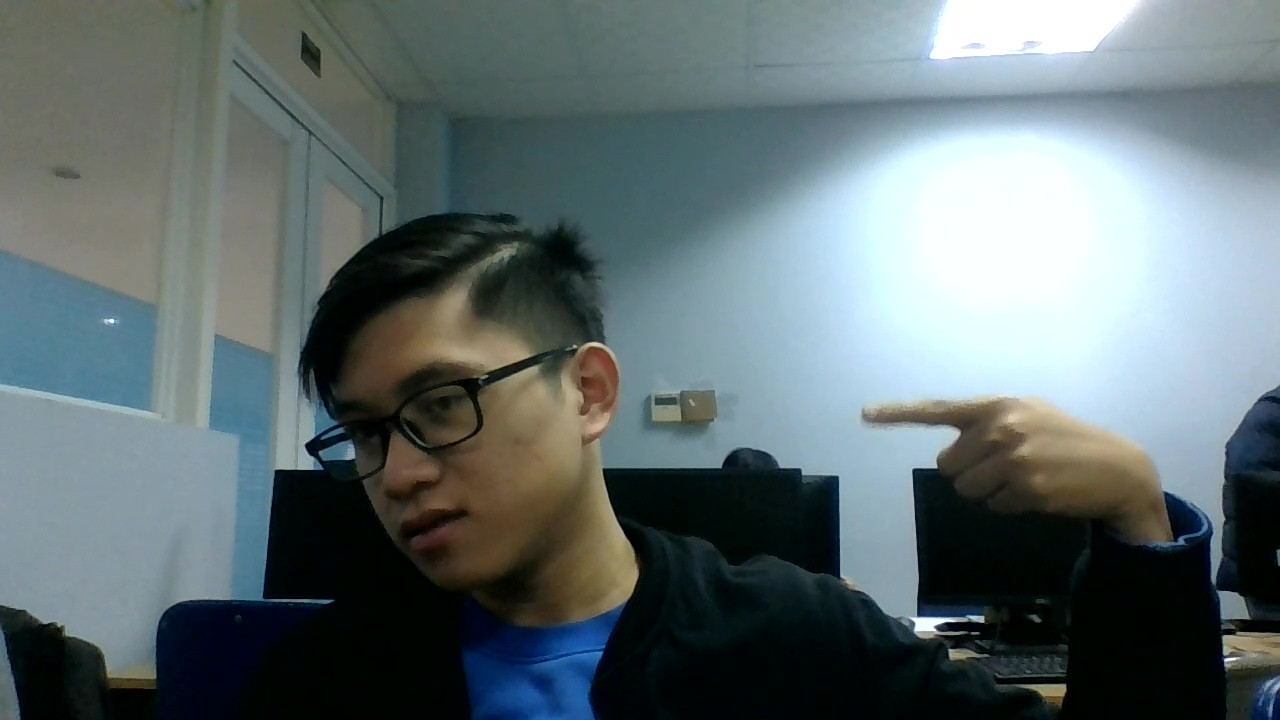right: (851, 386, 1178, 522)
